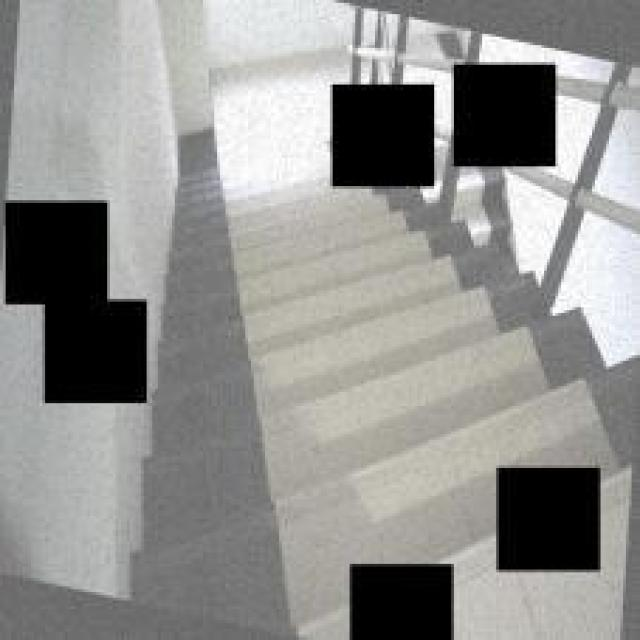downstair: (176, 224, 489, 534)
